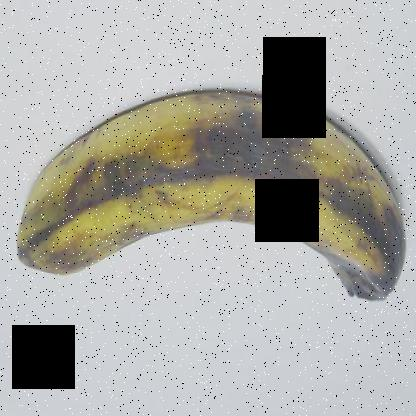overripe: (10, 64, 415, 345)
